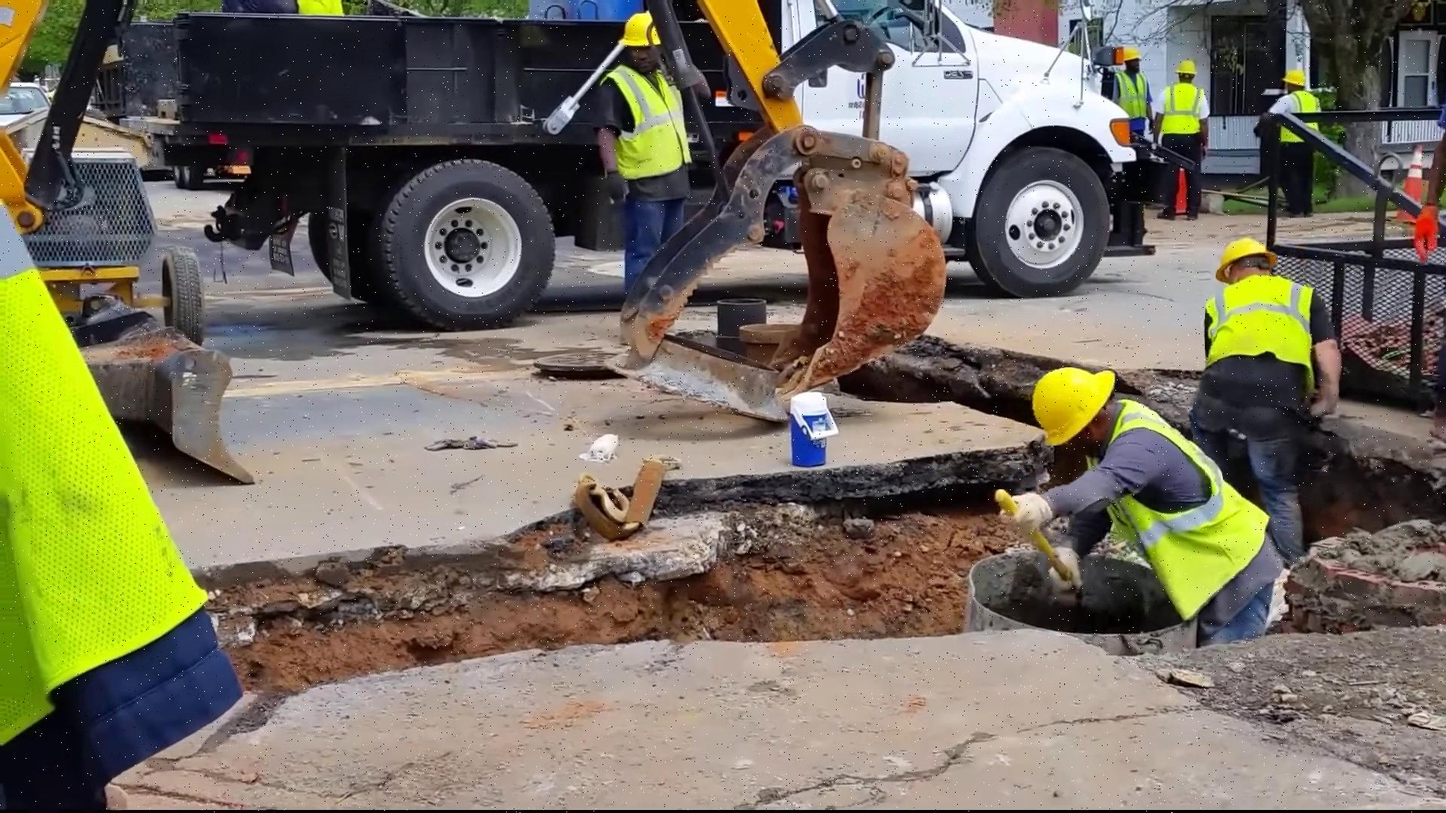Hard_hat: (1030, 361, 1115, 445), (1215, 231, 1279, 274), (615, 10, 670, 45)
Vest: (0, 221, 241, 772), (1093, 410, 1260, 620), (1183, 257, 1340, 381), (601, 69, 689, 177), (1266, 88, 1323, 153), (1154, 82, 1205, 153), (1112, 65, 1151, 139)
